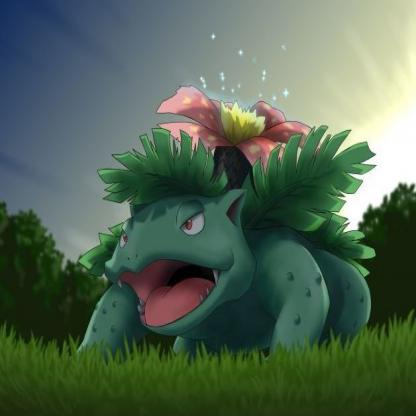Venusaur: (75, 70, 385, 376)
